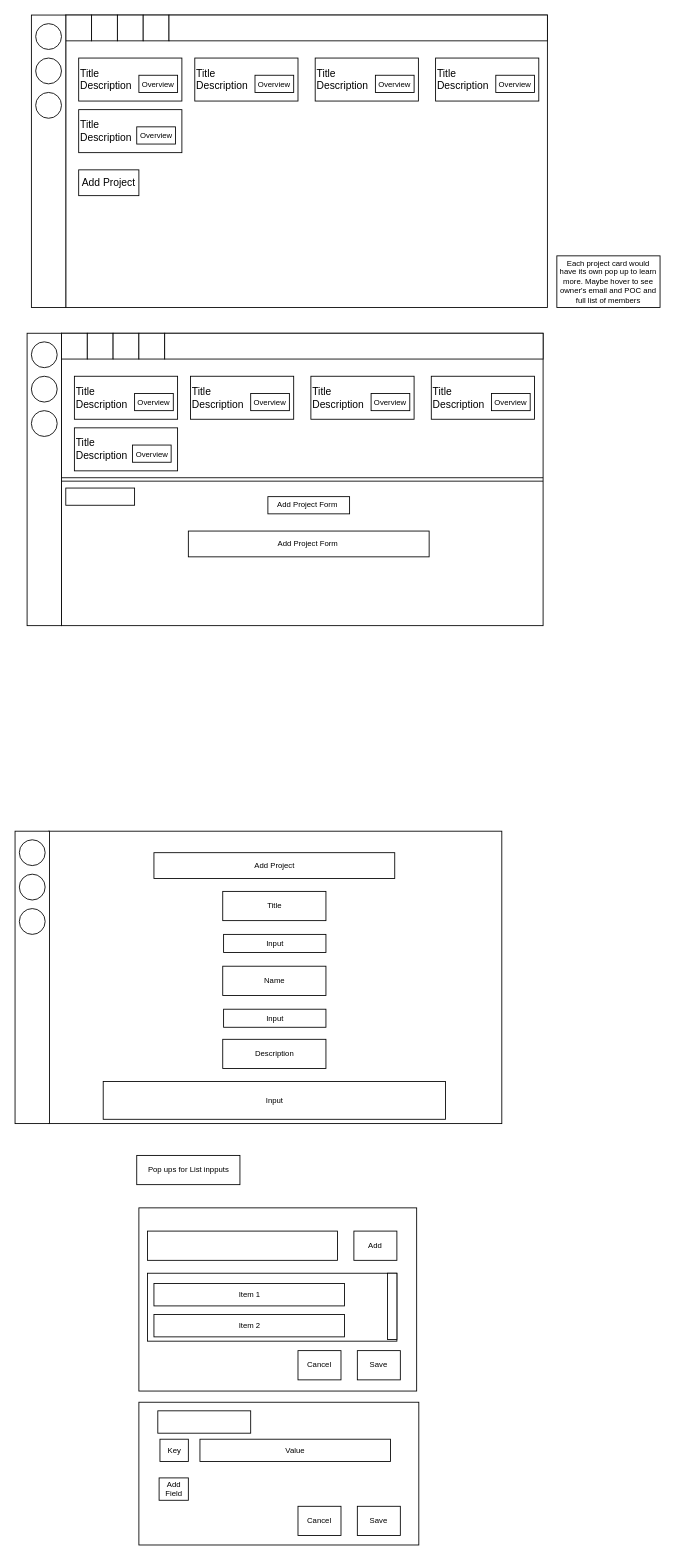
Some shapes in this 675 by 1560 pixel diagram are drawn without their labels. The shapes that lost their labels are listed below. From the top down, each one's box as (x1, y1, x2, y2) in pixels, then its label:
(65, 487, 135, 505): Documentation
(147, 1230, 338, 1260): New [ITEM]
(157, 1410, 251, 1433): Requirements
